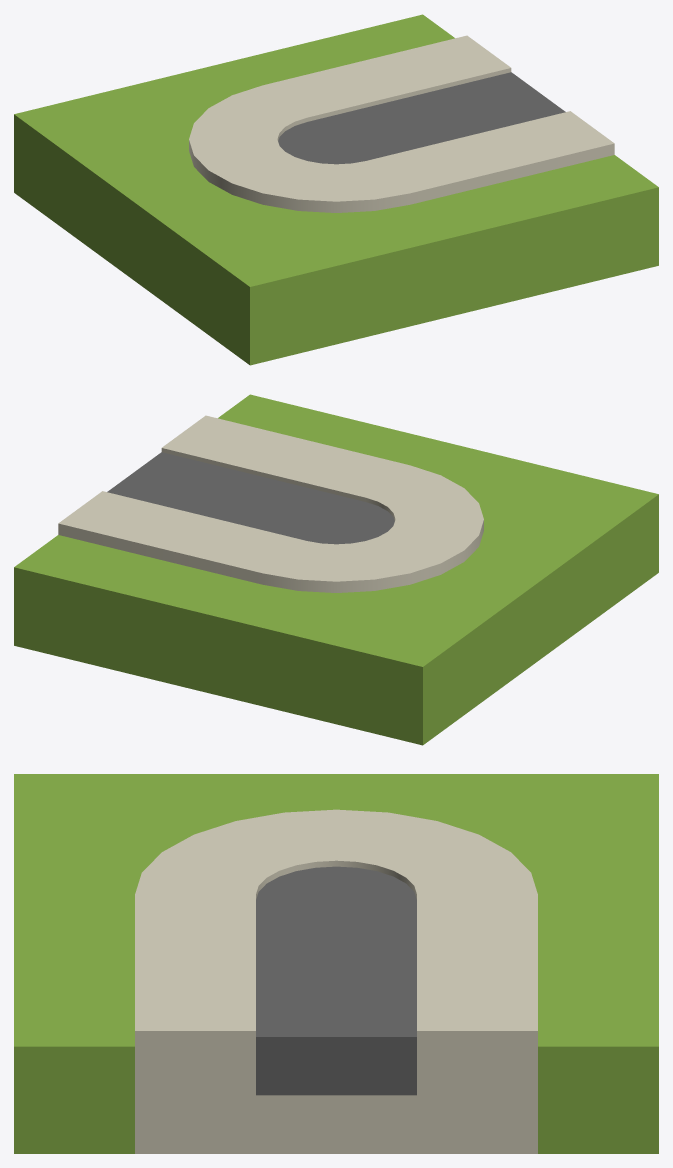
Rendered from roadTile_143.obj.
3 renders of one model, top to bottom at view 1: azimuth 30°, elevation 25°; view 2: azimuth 150°, elevation 25°; view 3: azimuth 270°, elevation 25°, orthographic. The views are drawn at different scales.
Visible parts, largest first — view 1: Mesh1_Group1_Model.182; view 2: Mesh1_Group1_Model.182; view 3: Mesh1_Group1_Model.182.
Boxes of the visible parts, x1,y1,x2,y2 form: Mesh1_Group1_Model.182: (14,14,658,365); Mesh1_Group1_Model.182: (14,394,658,745); Mesh1_Group1_Model.182: (14,774,658,1153).
Size of the model in its own units: 3 by 0.63 by 3.
